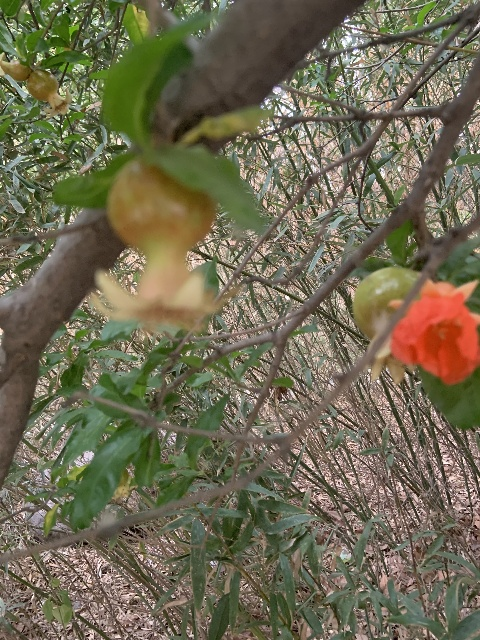early-fruit: (89, 160, 242, 340), (26, 70, 74, 117), (0, 53, 29, 81)
flower: (389, 278, 480, 385)
mid-growth: (352, 266, 422, 385)
